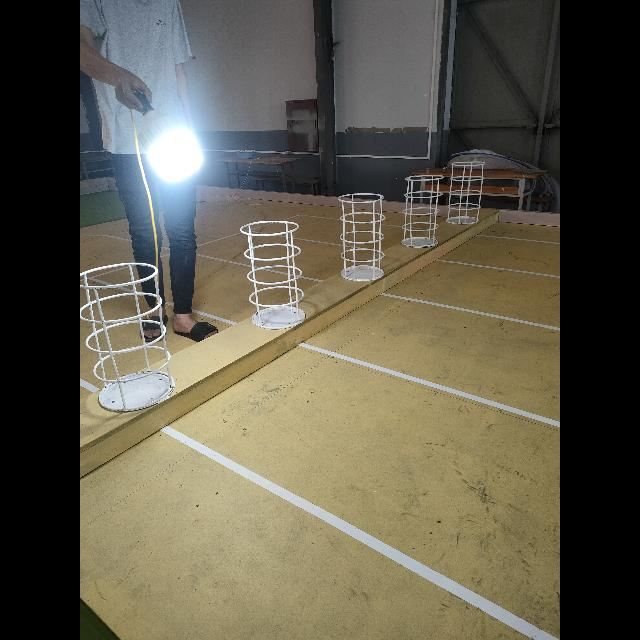S: (80, 262, 176, 413), (242, 220, 308, 330), (338, 193, 384, 281), (402, 175, 444, 247), (446, 162, 486, 224)
